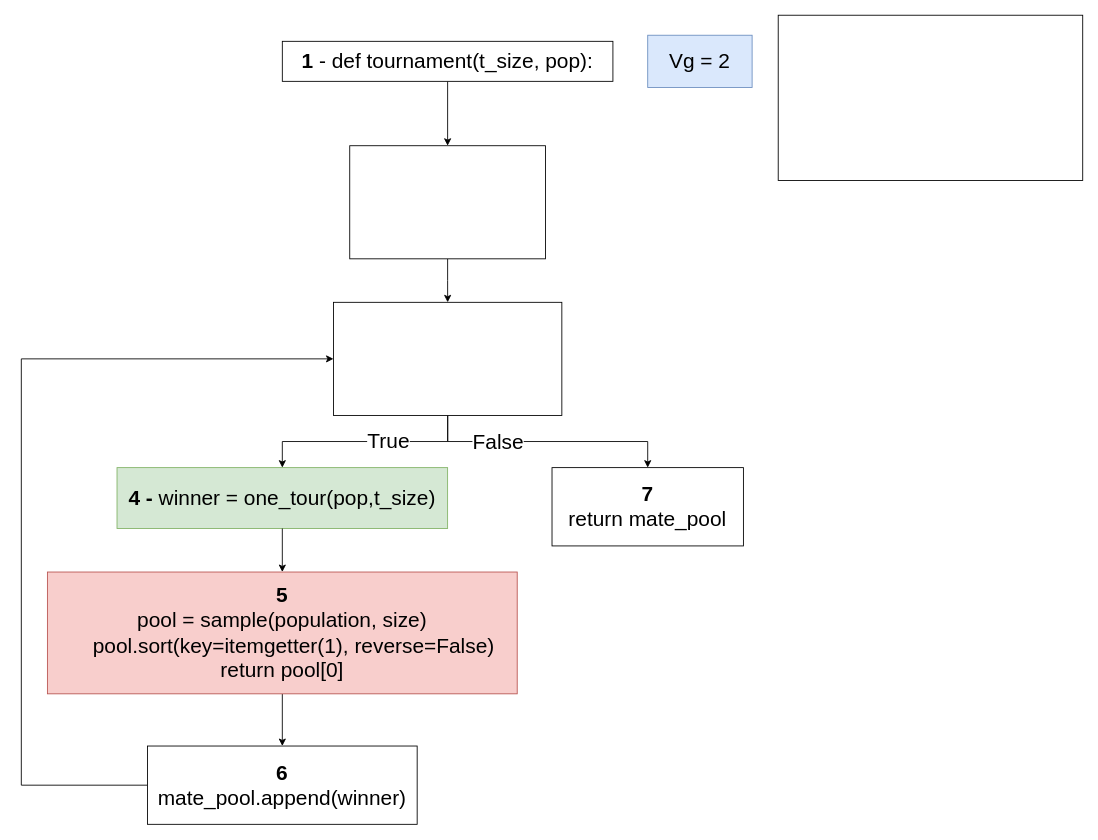
The diagram is 1098 pixels wide and 840 high, and some of its shapes have lost their labels. The shapes that lost their labels are listed below. From the top down, each one's centre as x and y in pixels, then its label:
At pixel 930 97: "Paths P1 = {1, 2, 3, 7} P2 = {1, 2, 3, 4, 5, 6, 3, 7 }".
At pixel 447 202: "2 size_pop= len(pop) mate_pool = []".
At pixel 447 358: "3 for i in range(size_pop):".
